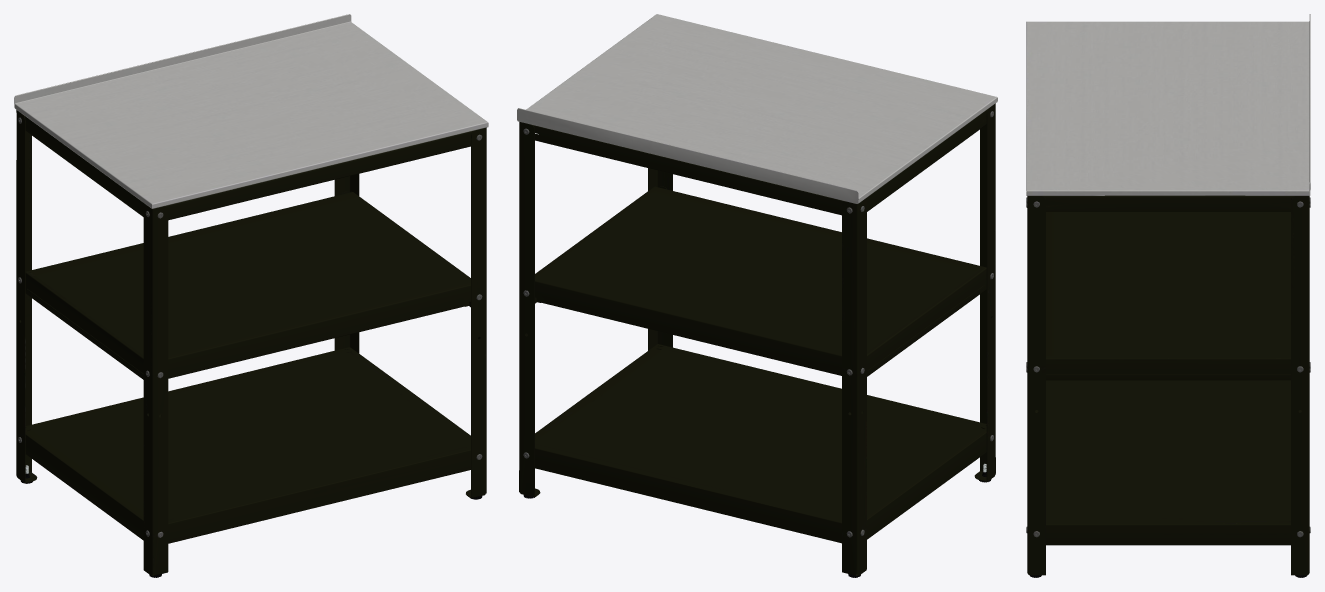
File: grillskar_rega_wyspa_kuchenna_50471446.glb
The picture shows the model from 3 angles, left to right: view 1: azimuth 30°, elevation 25°; view 2: azimuth 150°, elevation 25°; view 3: azimuth 270°, elevation 25°; orthographic projection. The views are drawn at different scales.
Visible parts, largest first — view 1: grillskar_rega_wyspa_kuchenna_50471446; view 2: grillskar_rega_wyspa_kuchenna_50471446; view 3: grillskar_rega_wyspa_kuchenna_50471446.
Part boxes in pixels (x1=…): grillskar_rega_wyspa_kuchenna_50471446: x1=14, y1=14, x2=488, y2=577; grillskar_rega_wyspa_kuchenna_50471446: x1=517, y1=14, x2=997, y2=577; grillskar_rega_wyspa_kuchenna_50471446: x1=1026, y1=14, x2=1310, y2=577.
Bounding box in the file's own units: 0.86 × 0.9405 × 0.6101.
1 material, 1 textured.
